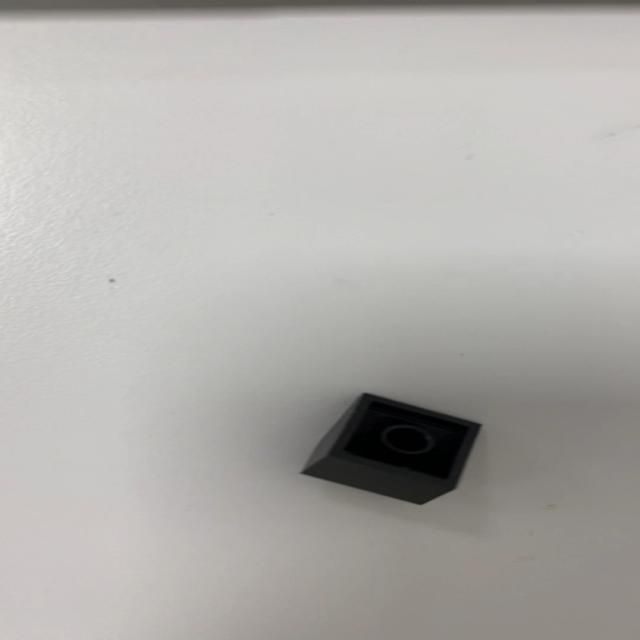P2x2x1: (298, 392, 483, 506)
